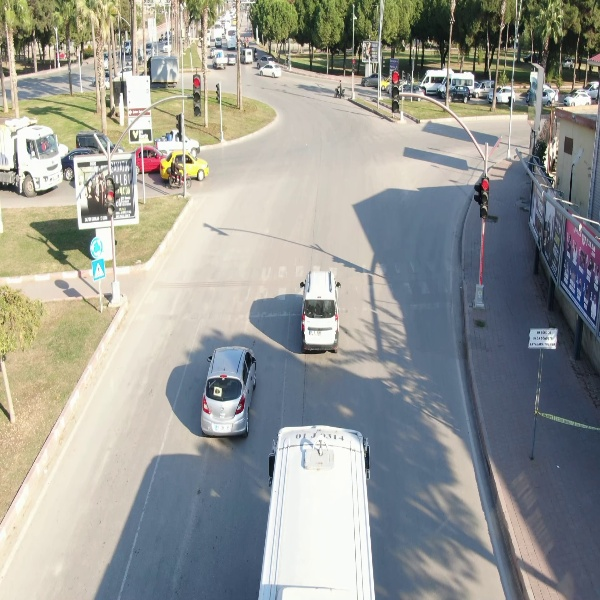car: (195, 344, 260, 440), (296, 269, 341, 356), (486, 84, 517, 105), (444, 85, 474, 104), (562, 89, 593, 105), (256, 61, 284, 77), (238, 47, 255, 65)
